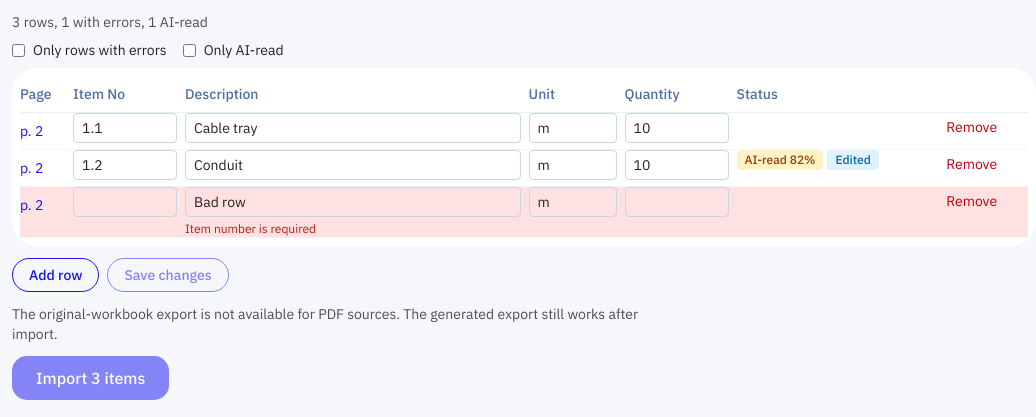
it: PdfRowsGrid › filters to error rows and AI rows
What coordinates should you click on to do the following:
click the checkbox labelled "Only rows with errors"
I would click on:
 (18, 50)
Its box is [12,44,25,56].
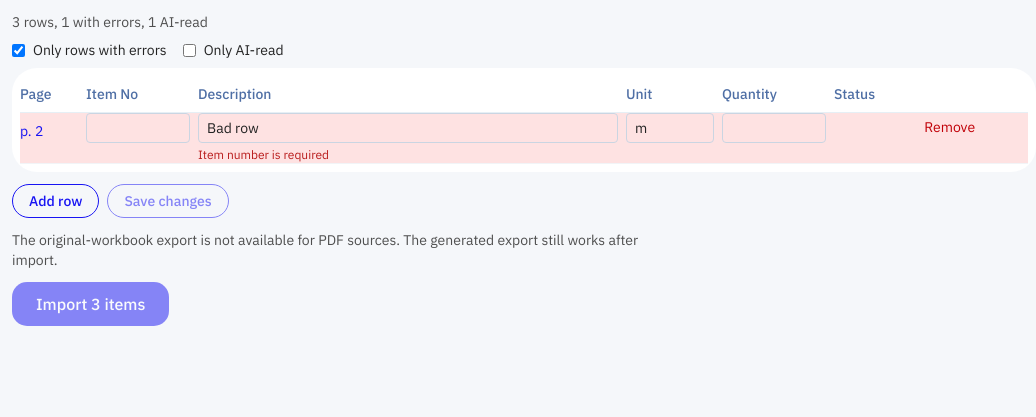
Expected: the number of rows with test id "pdf-row" is 1, [20,112,1028,164]
What coordinates should you click on to do the following:
click the checkbox labelled "Only rows with errors"
I would click on:
 (18, 50)
Its box is [12,44,25,56].
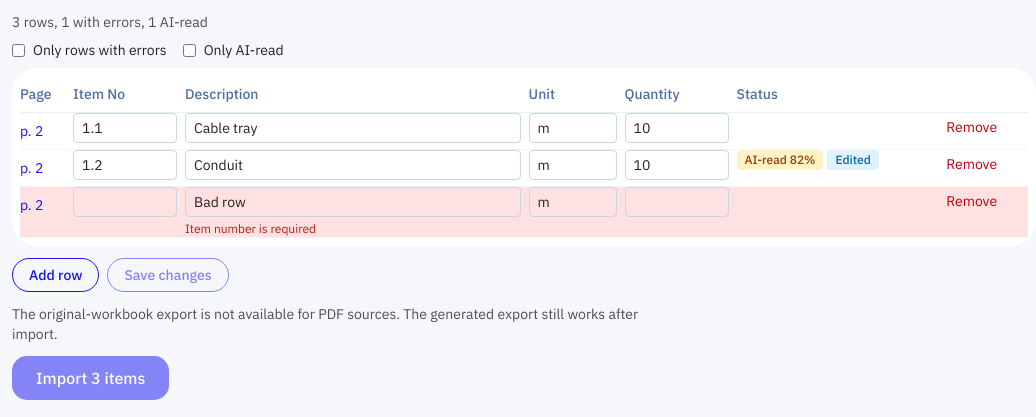
What coordinates should you click on to do the following:
click the checkbox labelled "Only AI-read"
I would click on:
 (189, 50)
Its box is [183,44,196,56].
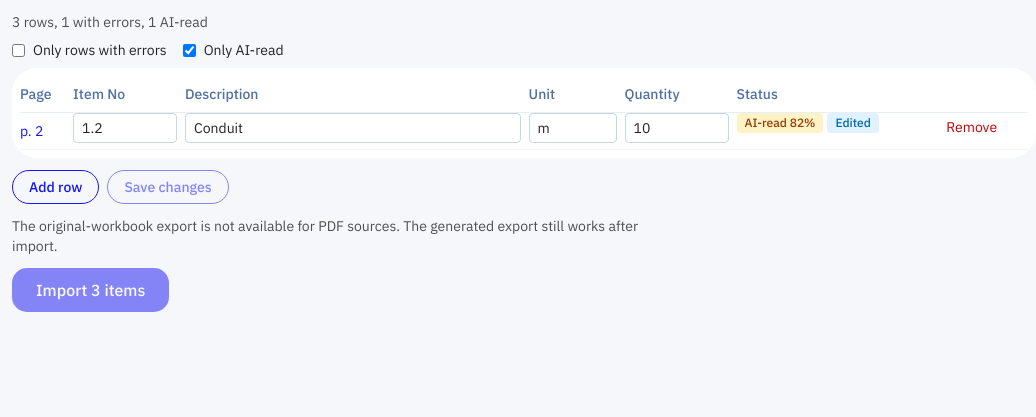
Expected: the field showing "Conduit" is shown, [185,113,521,143]
Expected: the number of rows with test id "pdf-row" is 1, [20,112,1028,150]
